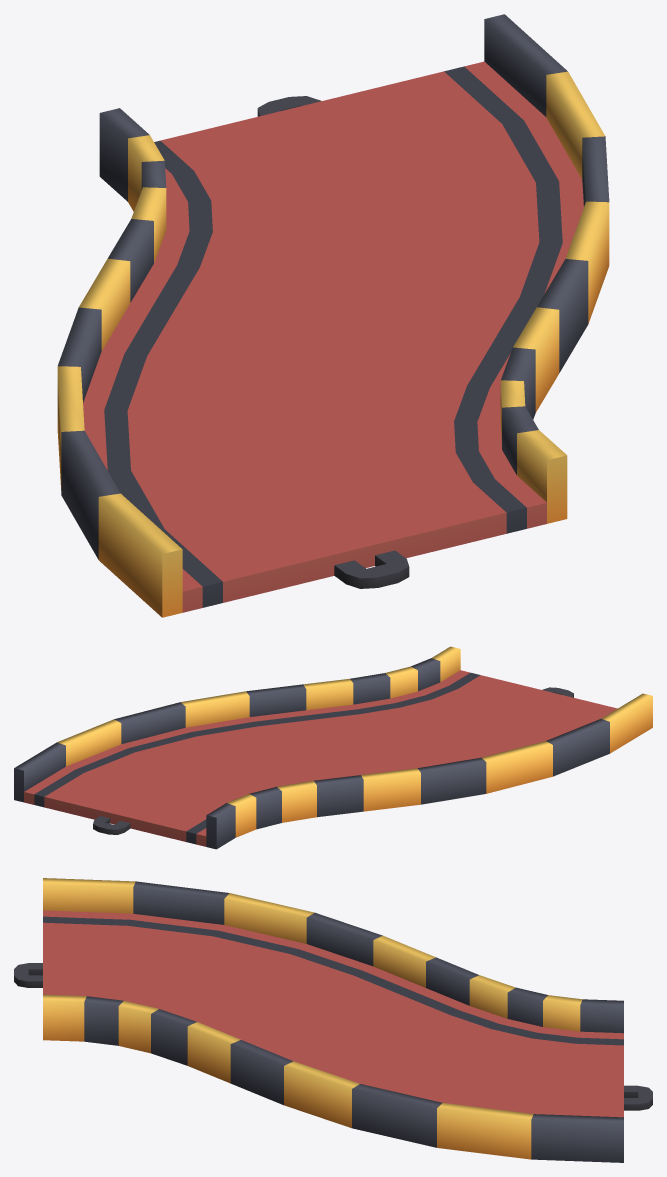
The model's file is track-road-wide-curve.fbx.
The picture shows the model from 3 angles, top to bottom: view 1: azimuth 30°, elevation 25°; view 2: azimuth 150°, elevation 25°; view 3: azimuth 270°, elevation 25°; orthographic projection. The views are drawn at different scales.
Parts seen in each view (by area): view 1: track-road-wide-curve; view 2: track-road-wide-curve; view 3: track-road-wide-curve.
Boxes of the visible parts, x1,y1,x2,y2 form: track-road-wide-curve: (57, 14, 609, 617); track-road-wide-curve: (14, 646, 652, 849); track-road-wide-curve: (14, 878, 652, 1162).
Bounding box in the file's own units: 400 × 30 × 440.
